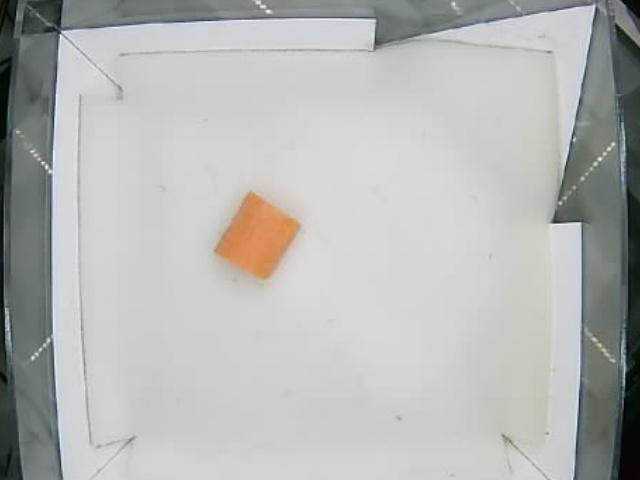Carrot: (219, 193, 298, 277)
